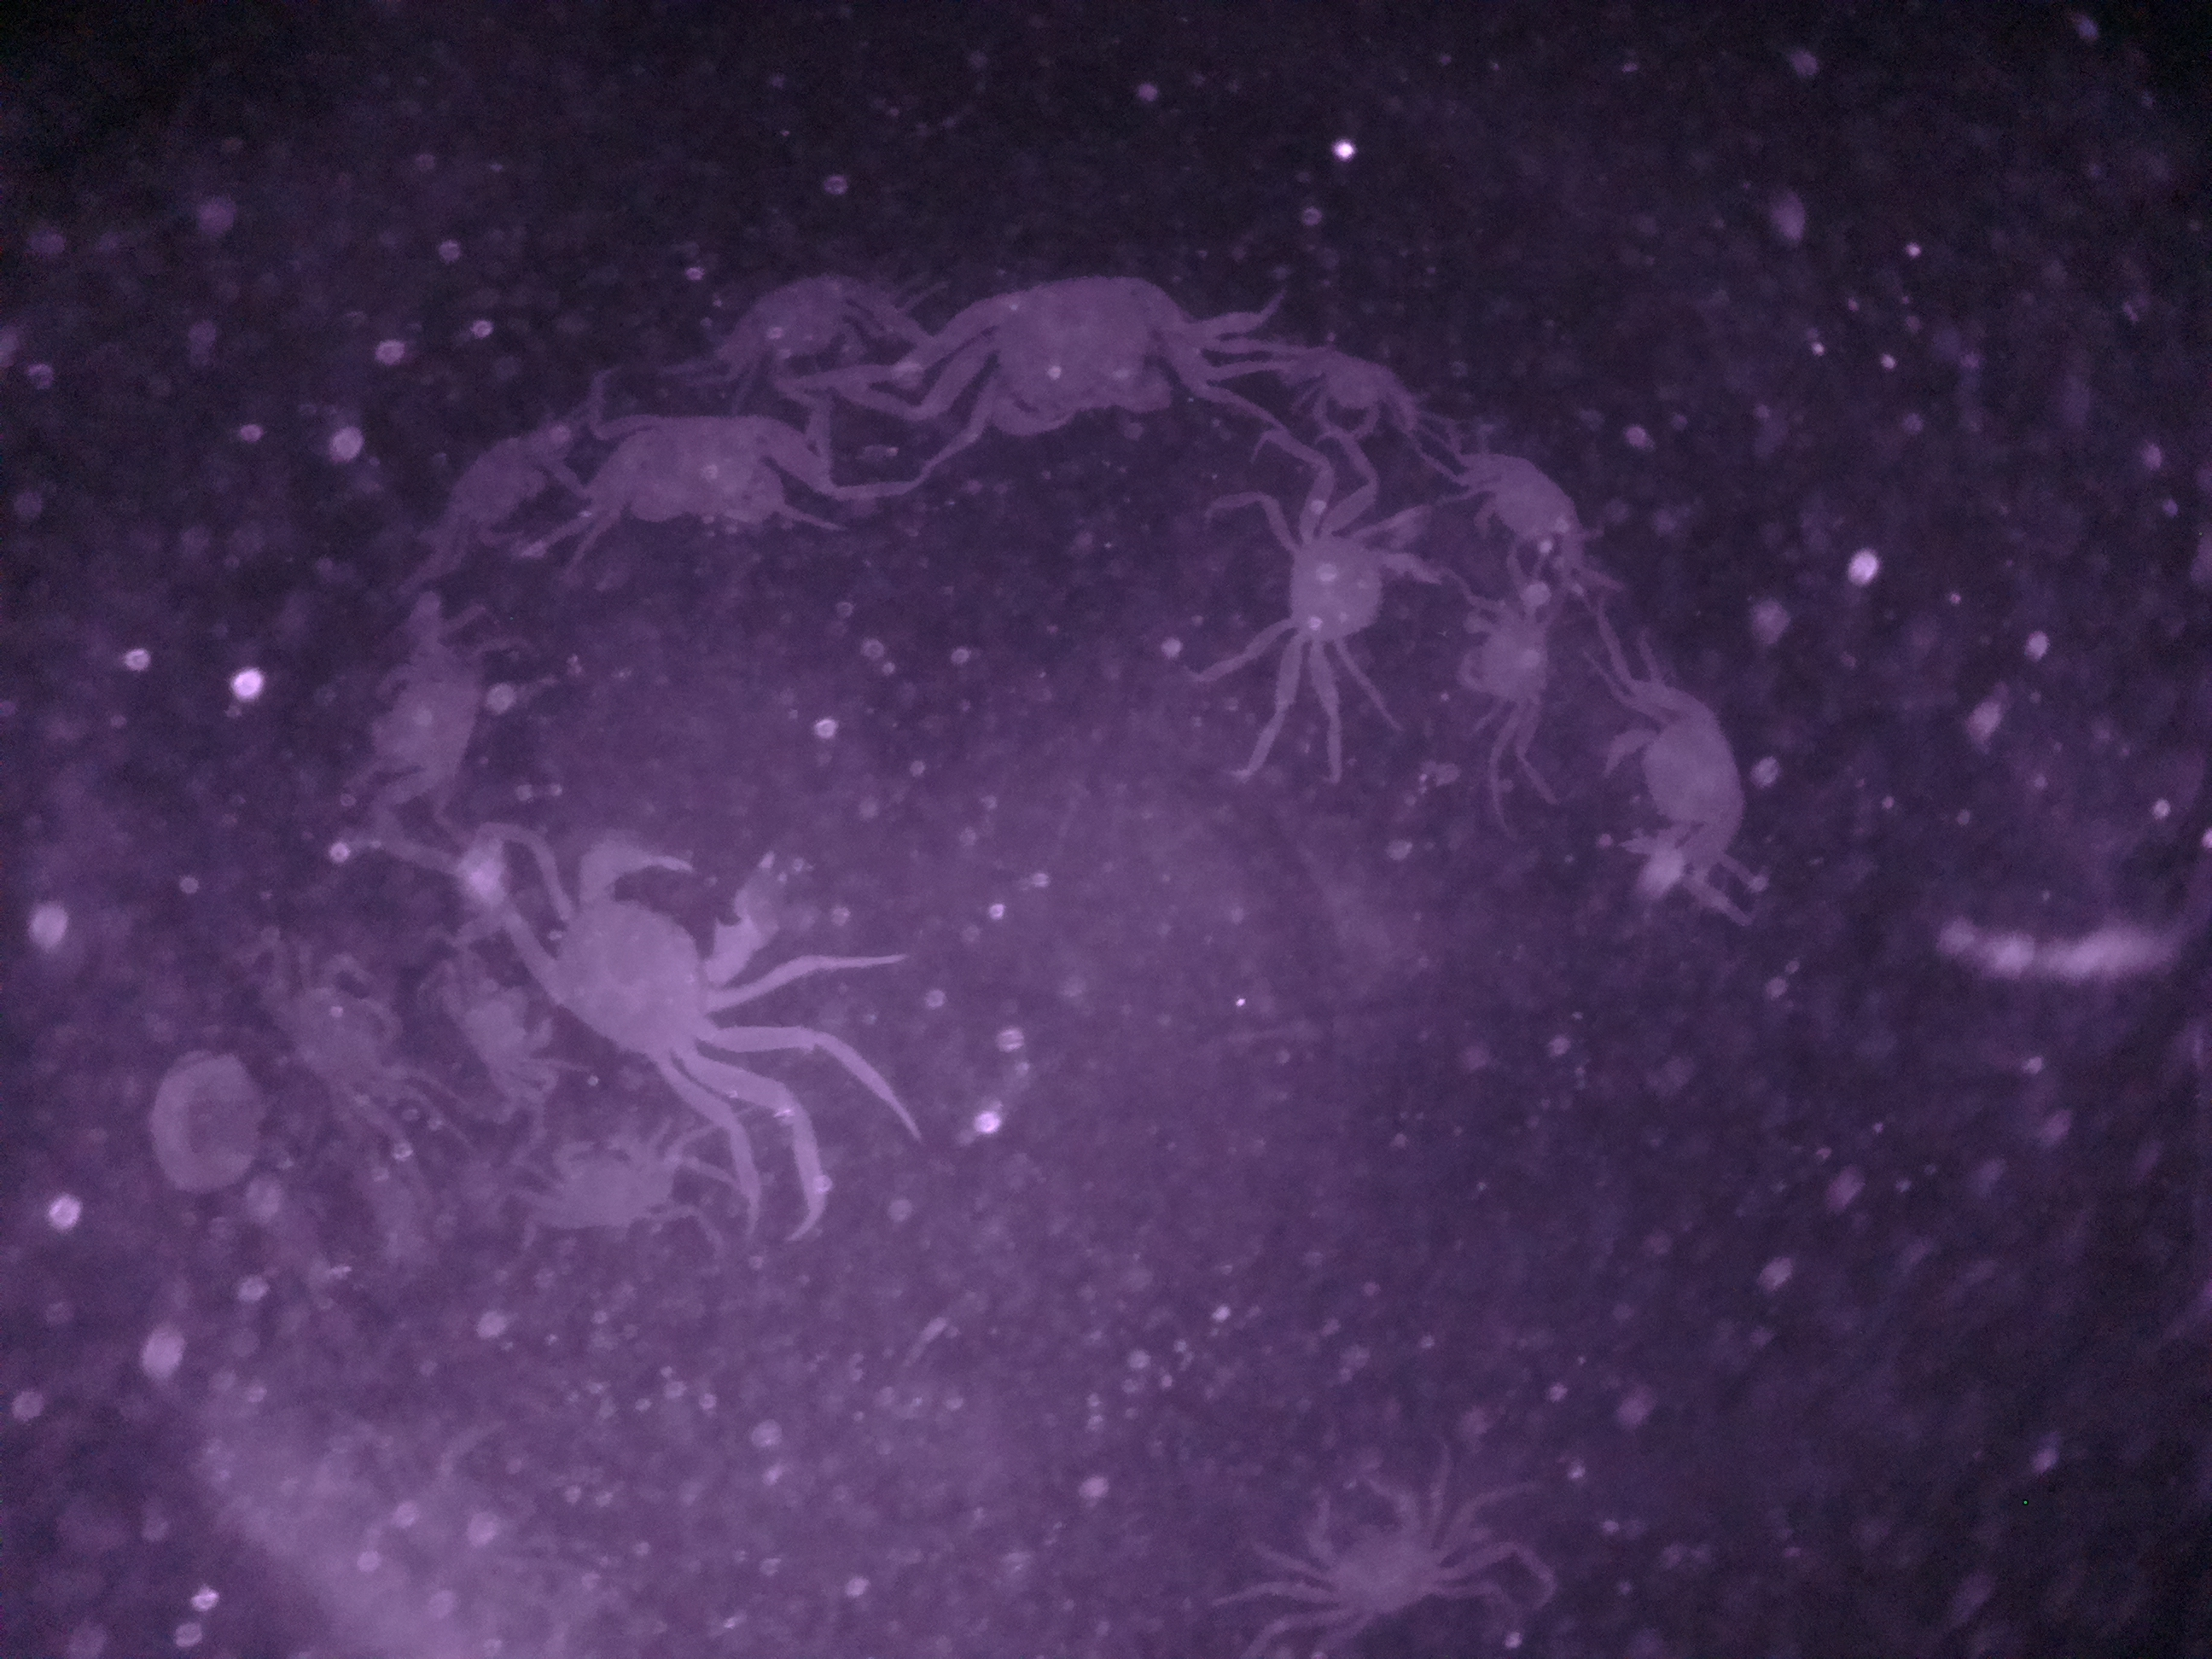Crab: (944, 251, 1204, 457), (1245, 497, 1451, 688), (577, 392, 822, 547), (1299, 1455, 1496, 1645), (1585, 683, 1777, 873), (1456, 430, 1618, 598), (510, 1121, 700, 1241), (1442, 575, 1564, 734), (1259, 342, 1418, 450)
